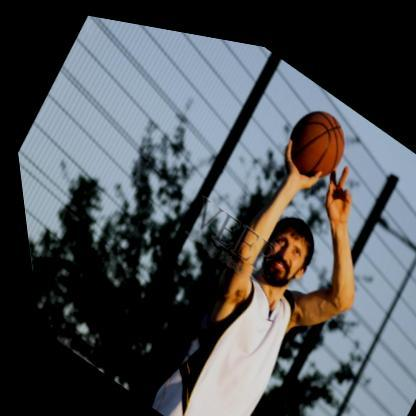basketball: (271, 83, 359, 184)
